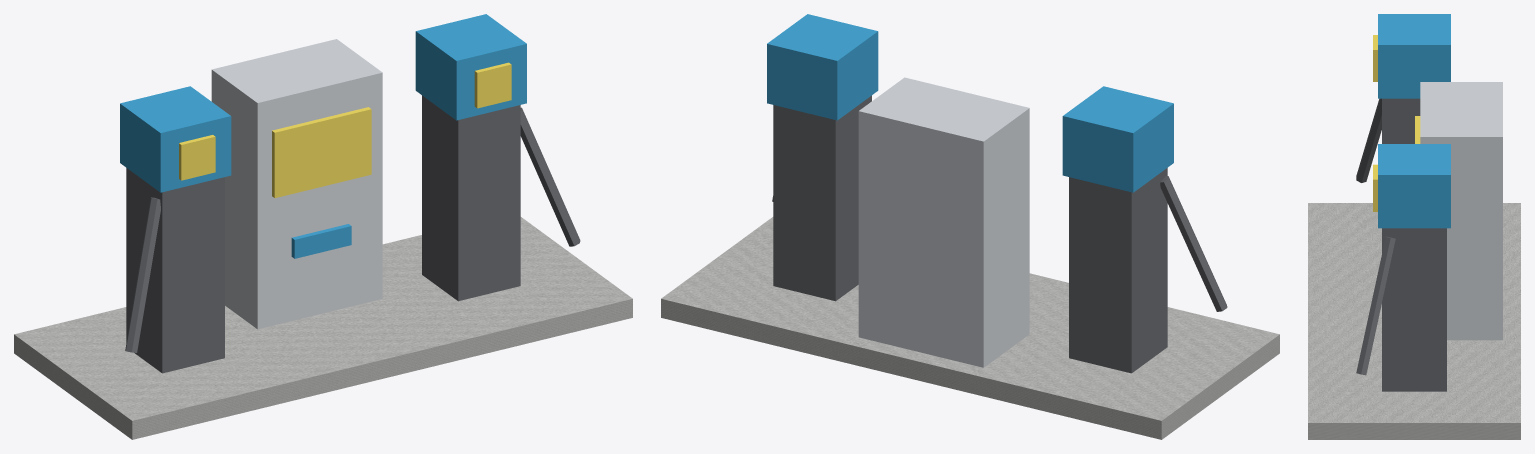
The model's file is bus-station-and-city-transit-fuel-and-charging-point-14fc2406__34214.glb.
The picture shows the model from 3 angles, left to right: view 1: azimuth 30°, elevation 25°; view 2: azimuth 150°, elevation 25°; view 3: azimuth 270°, elevation 25°; orthographic projection. The views are drawn at different scales.
Visible parts, largest first — view 1: fuel-and-charging-point-concrete, fuel-and-charging-point-charcoal, fuel-and-charging-point-steel, fuel-and-charging-point-azure, fuel-and-charging-point-canary; view 2: fuel-and-charging-point-steel, fuel-and-charging-point-concrete, fuel-and-charging-point-charcoal, fuel-and-charging-point-azure; view 3: fuel-and-charging-point-concrete, fuel-and-charging-point-steel, fuel-and-charging-point-charcoal, fuel-and-charging-point-azure, fuel-and-charging-point-canary.
Boxes of the visible parts, bbox=[...] form: fuel-and-charging-point-concrete: bbox=[14, 217, 632, 439]; fuel-and-charging-point-charcoal: bbox=[125, 95, 580, 373]; fuel-and-charging-point-steel: bbox=[211, 39, 382, 329]; fuel-and-charging-point-azure: bbox=[120, 14, 526, 258]; fuel-and-charging-point-canary: bbox=[179, 62, 511, 197]; fuel-and-charging-point-steel: bbox=[858, 77, 1029, 367]; fuel-and-charging-point-concrete: bbox=[661, 217, 1279, 439]; fuel-and-charging-point-charcoal: bbox=[772, 95, 1227, 373]; fuel-and-charging-point-azure: bbox=[767, 14, 1173, 192]; fuel-and-charging-point-concrete: bbox=[1308, 203, 1520, 439]; fuel-and-charging-point-steel: bbox=[1420, 82, 1502, 340]; fuel-and-charging-point-charcoal: bbox=[1356, 98, 1446, 391]; fuel-and-charging-point-azure: bbox=[1378, 14, 1450, 228]; fuel-and-charging-point-canary: bbox=[1373, 35, 1420, 211].
Bounding box in the file's own units: 4.4 × 2.2 × 1.8.
Materials: 5 (1 with a texture image).
